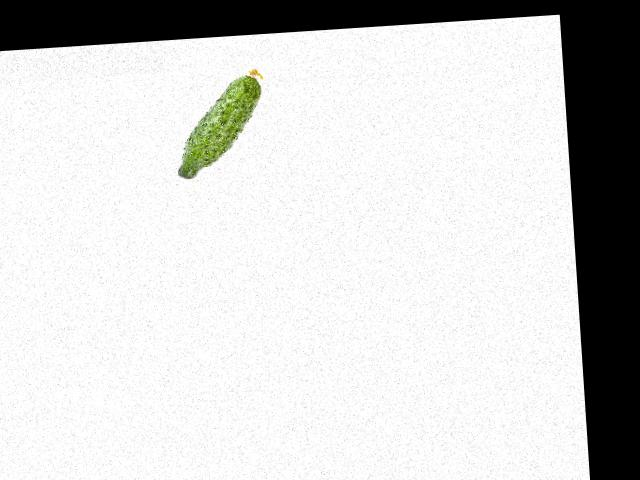cucumber: (170, 67, 269, 179)
